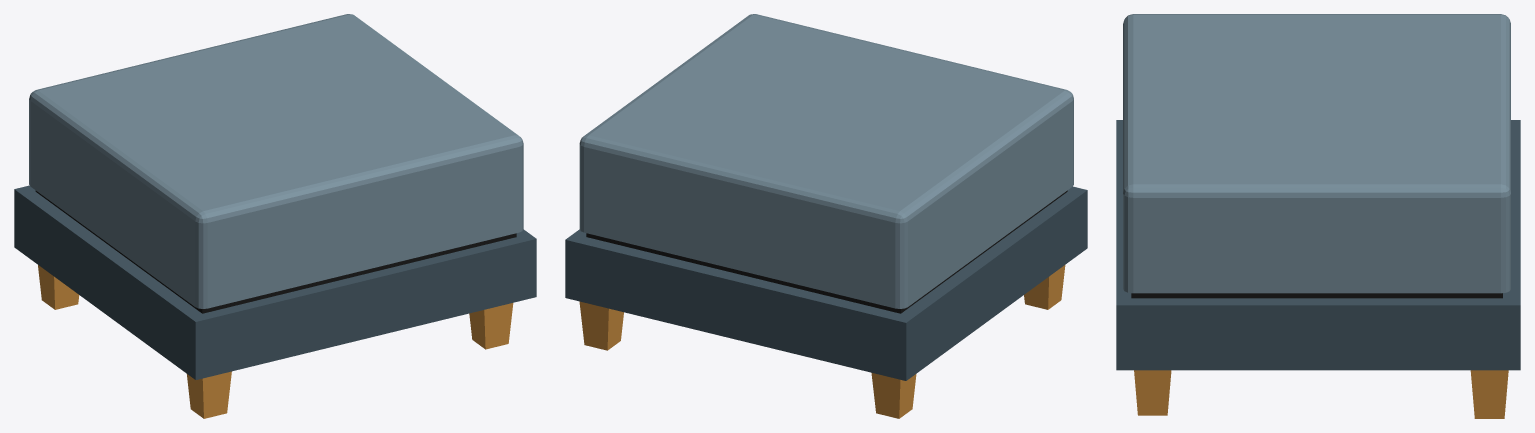
The model's file is couch.fbx.
3 renders of one model, left to right at view 1: azimuth 30°, elevation 25°; view 2: azimuth 150°, elevation 25°; view 3: azimuth 270°, elevation 25°, orthographic. The views are drawn at different scales.
Visible parts, largest first — view 1: group1633872756; view 2: group1633872756; view 3: group1633872756.
Boxes of the visible parts, x1,y1,x2,y2 form: group1633872756: (14,14,536,418); group1633872756: (565,14,1087,418); group1633872756: (1116,14,1520,418).
Bounding box in the file's own units: 53.14 × 31.17 × 49.
